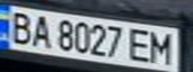0: (69, 20, 90, 55)
2: (87, 21, 109, 57)
7: (106, 22, 127, 60)
8: (51, 16, 75, 52)
A: (27, 12, 54, 48)
B: (3, 8, 36, 45)
E: (124, 26, 154, 63)
M: (145, 29, 178, 65)
